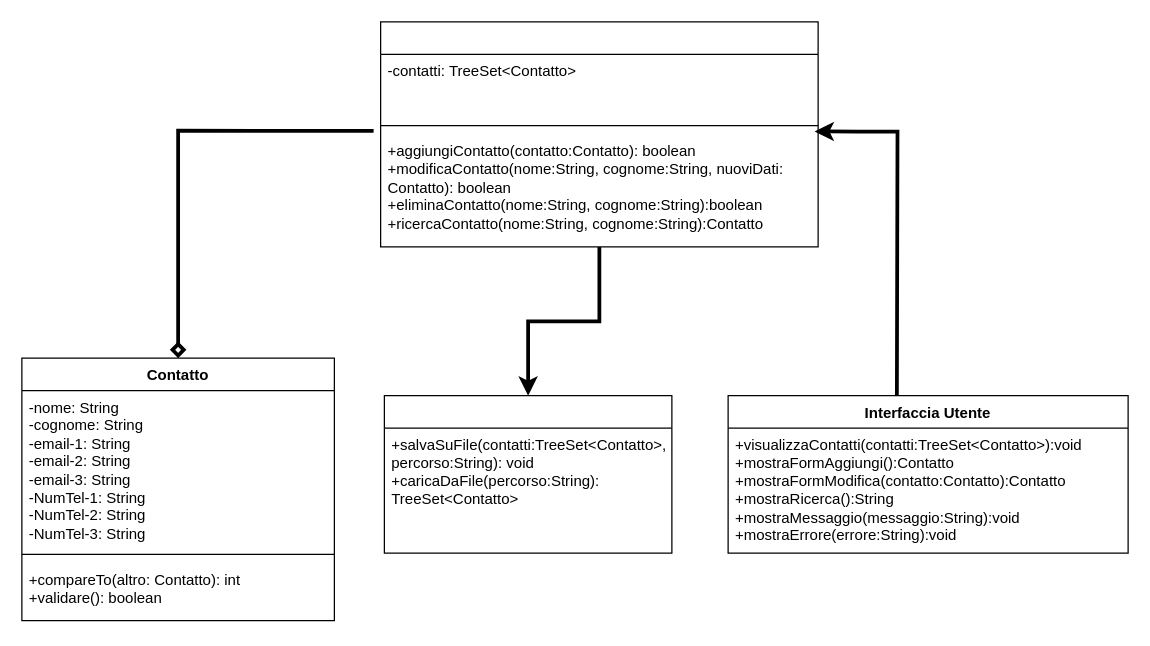
Image size: 1150x646. Some labels were removed from this diagram. The box of each missing label's shape, as (x1, y1, x2, y2) in pixels:
Carica/Scarica: (383, 394, 672, 553)
Rubrica: (379, 21, 818, 247)
